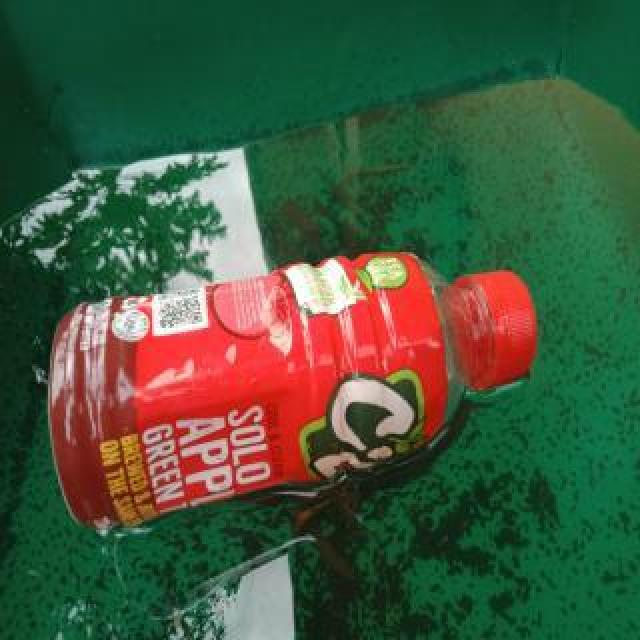bottle: (45, 246, 541, 536)
